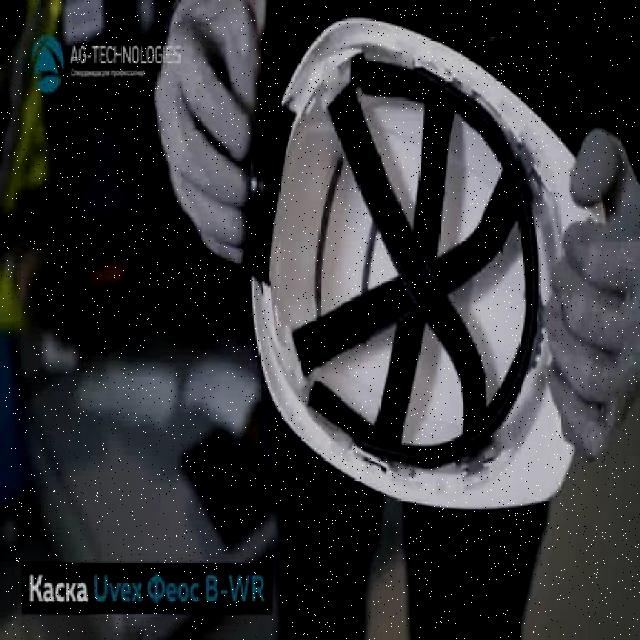Gloves: (538, 121, 638, 462), (154, 0, 264, 269)
Helmet: (250, 16, 607, 510)
